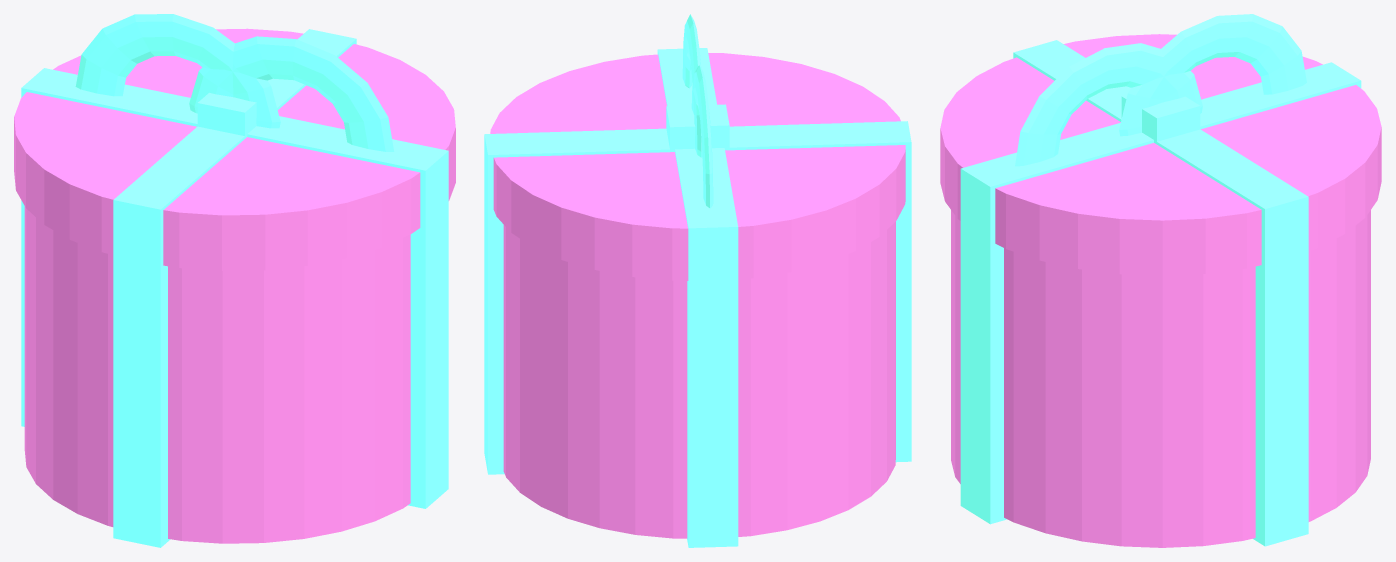
Rendered from Tmpl_Round_Root_232.glb.
3 views of the same model, side by side, from view 1: azimuth 30°, elevation 25°; view 2: azimuth 150°, elevation 25°; view 3: azimuth 270°, elevation 25° (orthographic). The views are drawn at different scales.
Parts seen in each view (by area): view 1: Tmpl_Round_Base.230, Tmpl_Round_Lid.230, Tmpl_Round_Ribbon_Y.230, Tmpl_Round_Ribbon_X.230, Tmpl_Round_BowR.230, Tmpl_Round_BowL.230, Tmpl_Round_BowKnot.230; view 2: Tmpl_Round_Base.230, Tmpl_Round_Lid.230, Tmpl_Round_Ribbon_X.230, Tmpl_Round_Ribbon_Y.230, Tmpl_Round_BowKnot.230, Tmpl_Round_BowR.230, Tmpl_Round_BowL.230; view 3: Tmpl_Round_Base.230, Tmpl_Round_Lid.230, Tmpl_Round_Ribbon_Y.230, Tmpl_Round_Ribbon_X.230, Tmpl_Round_BowR.230, Tmpl_Round_BowL.230, Tmpl_Round_BowKnot.230.
Boxes of the visible parts, x1=… form: Tmpl_Round_Base.230: x1=24, y1=206, x2=410, y2=543; Tmpl_Round_Lid.230: x1=14, y1=28, x2=455, y2=270; Tmpl_Round_Ribbon_Y.230: x1=113, y1=29, x2=356, y2=547; Tmpl_Round_Ribbon_X.230: x1=21, y1=68, x2=448, y2=508; Tmpl_Round_BowR.230: x1=75, y1=14, x2=280, y2=128; Tmpl_Round_BowL.230: x1=189, y1=36, x2=394, y2=151; Tmpl_Round_BowKnot.230: x1=197, y1=89, x2=272, y2=138; Tmpl_Round_Base.230: x1=503, y1=221, x2=895, y2=538; Tmpl_Round_Lid.230: x1=490, y1=53, x2=905, y2=280; Tmpl_Round_Ribbon_X.230: x1=657, y1=48, x2=738, y2=547; Tmpl_Round_Ribbon_Y.230: x1=484, y1=121, x2=911, y2=474; Tmpl_Round_BowKnot.230: x1=666, y1=104, x2=729, y2=151; Tmpl_Round_BowR.230: x1=691, y1=65, x2=713, y2=208; Tmpl_Round_BowL.230: x1=682, y1=14, x2=702, y2=157; Tmpl_Round_Base.230: x1=951, y1=210, x2=1370, y2=547; Tmpl_Round_Lid.230: x1=940, y1=34, x2=1381, y2=275; Tmpl_Round_Ribbon_Y.230: x1=1013, y1=40, x2=1308, y2=546; Tmpl_Round_Ribbon_X.230: x1=960, y1=62, x2=1361, y2=524; Tmpl_Round_BowR.230: x1=1119, y1=14, x2=1306, y2=136; Tmpl_Round_BowL.230: x1=1015, y1=43, x2=1202, y2=166; Tmpl_Round_BowKnot.230: x1=1121, y1=95, x2=1200, y2=144.
Size of the model in its own units: 1.1 by 1.18 by 1.1.
